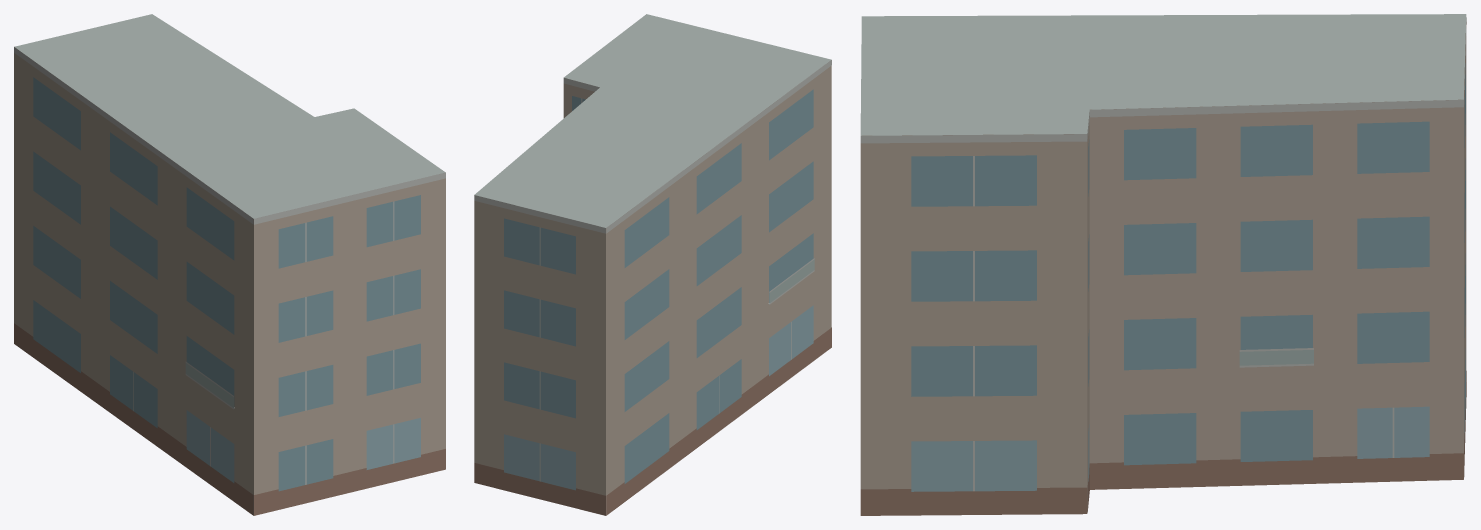
File: survey-upis-32538568.glb
The picture shows the model from 3 angles, left to right: view 1: azimuth 30°, elevation 25°; view 2: azimuth 150°, elevation 25°; view 3: azimuth 270°, elevation 25°; orthographic projection. The views are drawn at different scales.
Parts seen in each view (by area): view 1: survey-upis-32538568.tmp; view 2: survey-upis-32538568.tmp; view 3: survey-upis-32538568.tmp.
Boxes of the visible parts, bbox=[...] form: survey-upis-32538568.tmp: bbox=[14, 14, 445, 515]; survey-upis-32538568.tmp: bbox=[474, 14, 831, 515]; survey-upis-32538568.tmp: bbox=[860, 14, 1466, 515].
Bounding box in the file's own units: 8.39 × 12.2 × 17.63.
